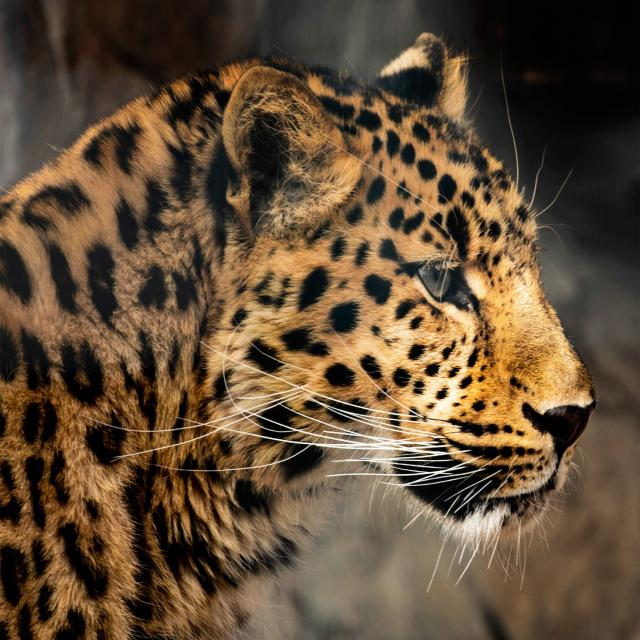Leopard: (0, 51, 597, 640)
